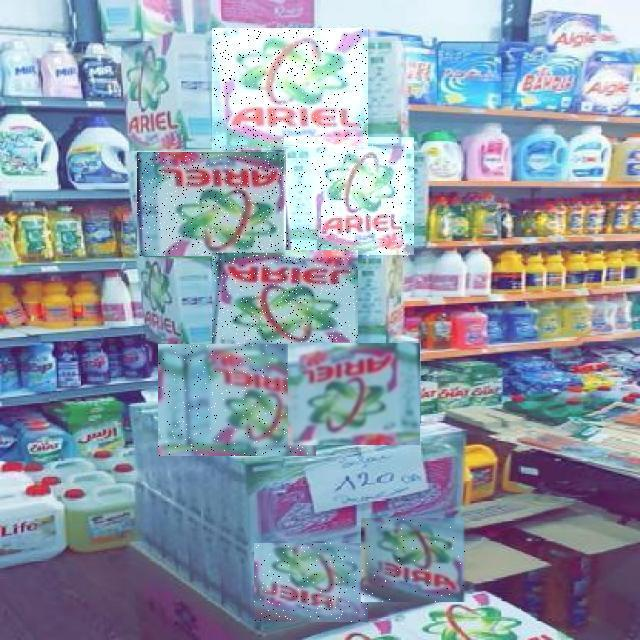Detergent: (212, 28, 368, 150), (158, 344, 316, 456), (284, 138, 414, 258), (137, 152, 286, 256), (213, 253, 359, 352), (288, 343, 420, 445), (254, 543, 368, 622), (362, 518, 468, 602)
